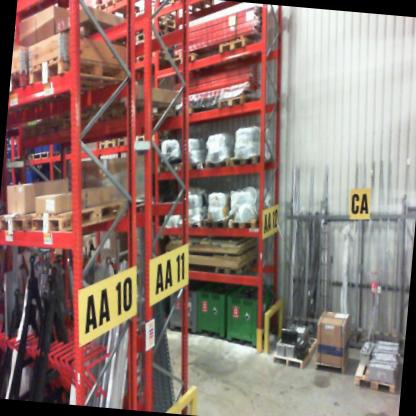pallet: (25, 47, 129, 104), (30, 194, 131, 239), (114, 98, 192, 134), (352, 347, 404, 399), (0, 196, 51, 240), (273, 330, 319, 373), (207, 88, 267, 120), (211, 248, 261, 285), (311, 342, 355, 378), (163, 0, 219, 28), (226, 206, 270, 240), (215, 32, 261, 63), (227, 150, 274, 177), (133, 47, 179, 72), (168, 47, 205, 78), (201, 206, 239, 234), (9, 62, 30, 106), (96, 0, 146, 18), (134, 29, 180, 47), (132, 16, 181, 32), (198, 152, 229, 173), (176, 215, 206, 236), (30, 145, 63, 163), (178, 152, 199, 178), (155, 155, 180, 176), (116, 134, 136, 158), (91, 140, 117, 156), (134, 128, 156, 145)
